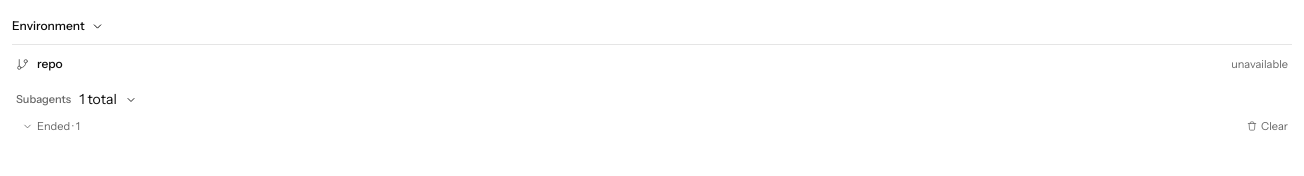
Test case: settles a stuck running subagent from the host registry
This screenshot has width=1304, height=176.
Click the button with aria-label "Toggle ended subagents" at (56, 126), box [22,116,1237,136]
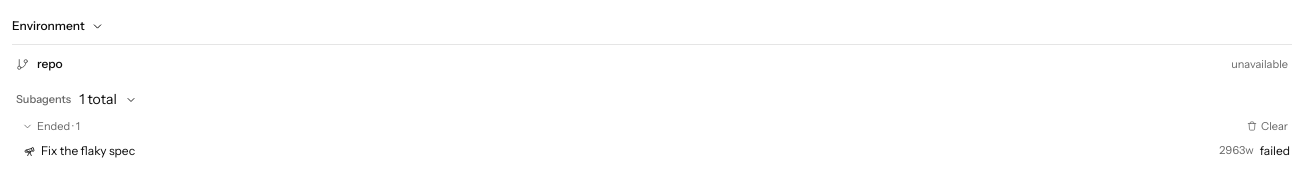
Expected: the element named "Subagents" shows "failed", [24,142,1290,160]
